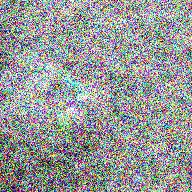러키펜정: (64, 105, 80, 118)
씨엠지세파클러캡슐: (66, 93, 92, 107)
에르도캡슐: (62, 77, 87, 96)
휴티렌정: (57, 115, 71, 132)
